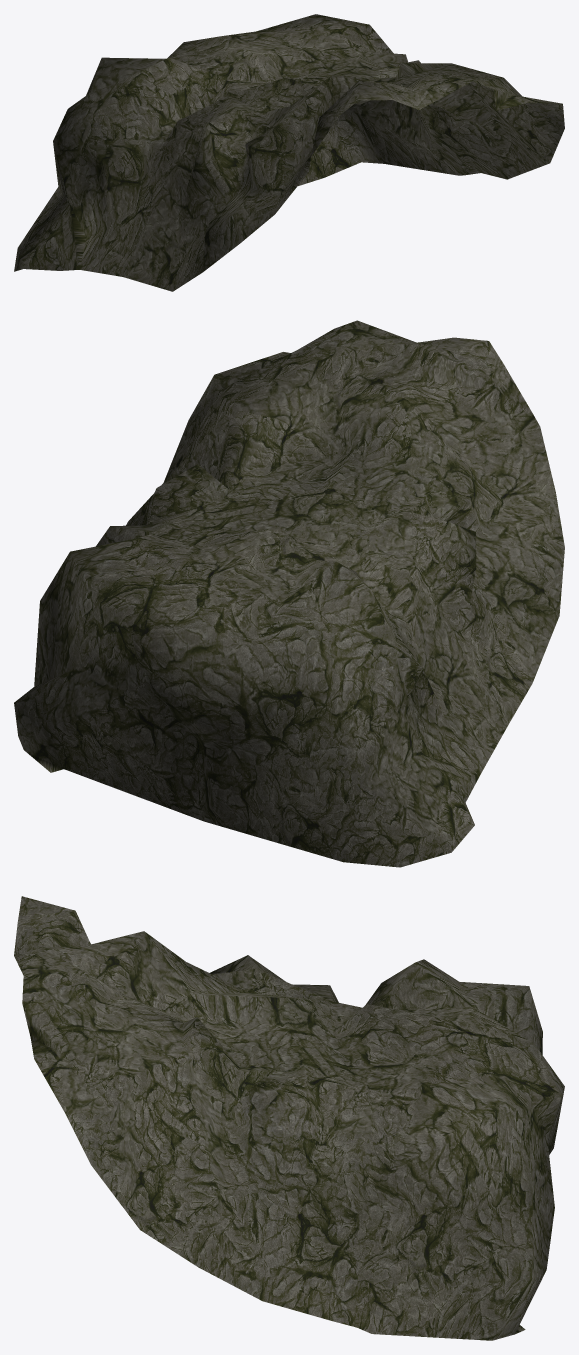
File: TI_Cliff_01_f_LOD_03.fbx
3 views of the same model, one above another, from view 1: azimuth 30°, elevation 25°; view 2: azimuth 150°, elevation 25°; view 3: azimuth 270°, elevation 25° (orthographic). The views are drawn at different scales.
Visible parts, largest first — view 1: TI_Cliff_01_f_LOD_03; view 2: TI_Cliff_01_f_LOD_03; view 3: TI_Cliff_01_f_LOD_03.
Part boxes in pixels (bbox=[...]): TI_Cliff_01_f_LOD_03: bbox=[14, 14, 564, 291]; TI_Cliff_01_f_LOD_03: bbox=[14, 320, 564, 867]; TI_Cliff_01_f_LOD_03: bbox=[14, 896, 564, 1340].
Size of the model in its own units: 27.12 by 17.95 by 25.66.
